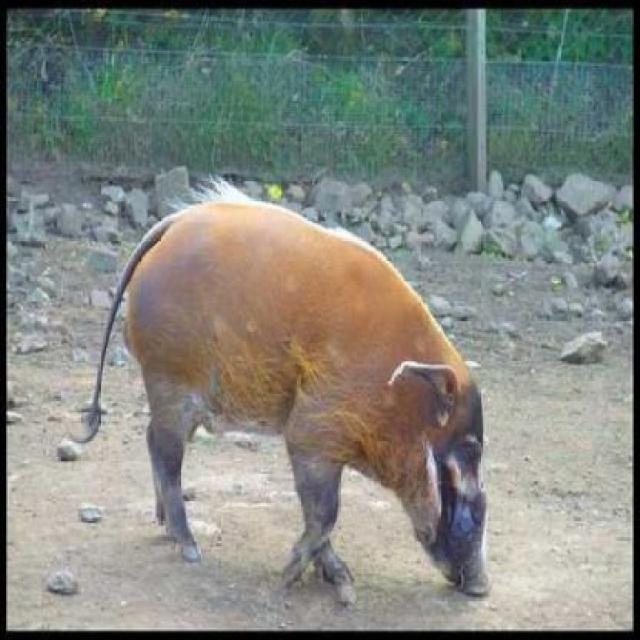pig: (68, 155, 592, 612)
